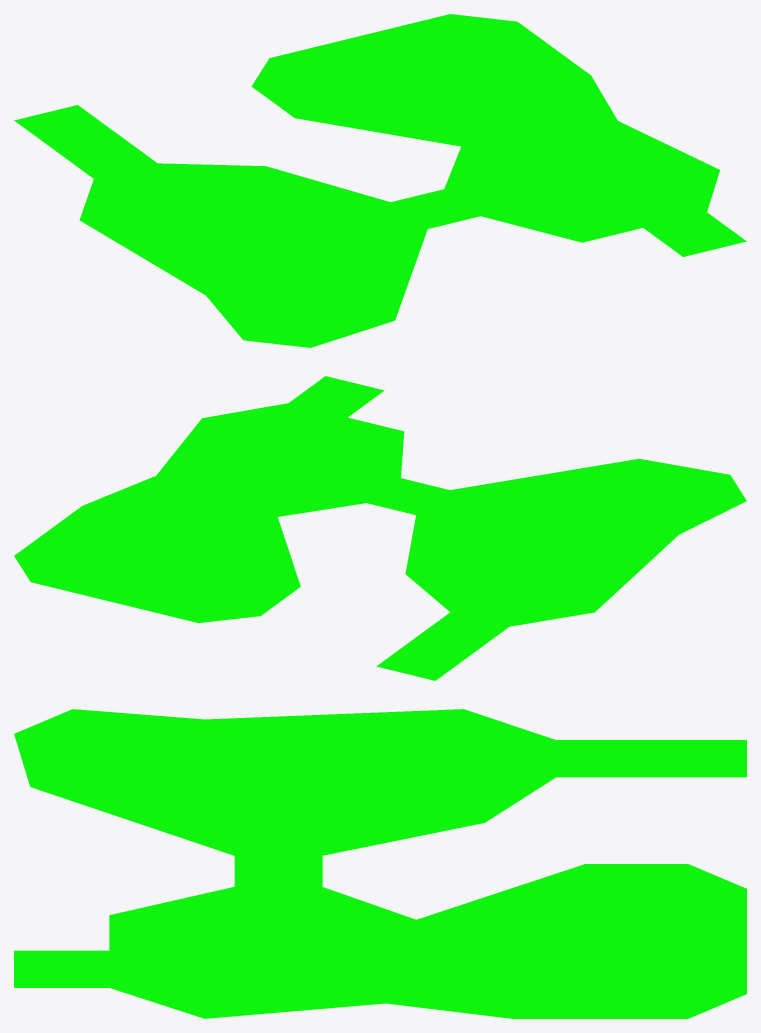
Rendered from s01b_ic1-floor.glb.
The picture shows the model from 3 angles, top to bottom: view 1: azimuth 30°, elevation 25°; view 2: azimuth 150°, elevation 25°; view 3: azimuth 270°, elevation 25°; orthographic projection. The views are drawn at different scales.
Visible parts, largest first — view 1: collision_floor-colonly; view 2: collision_floor-colonly; view 3: collision_floor-colonly.
Part boxes in pixels (x1,y1,x2,y2): collision_floor-colonly: [14, 14, 746, 347]; collision_floor-colonly: [14, 376, 746, 680]; collision_floor-colonly: [14, 709, 746, 1018].
Bounding box in the file's own units: 50 × 0 × 50.
